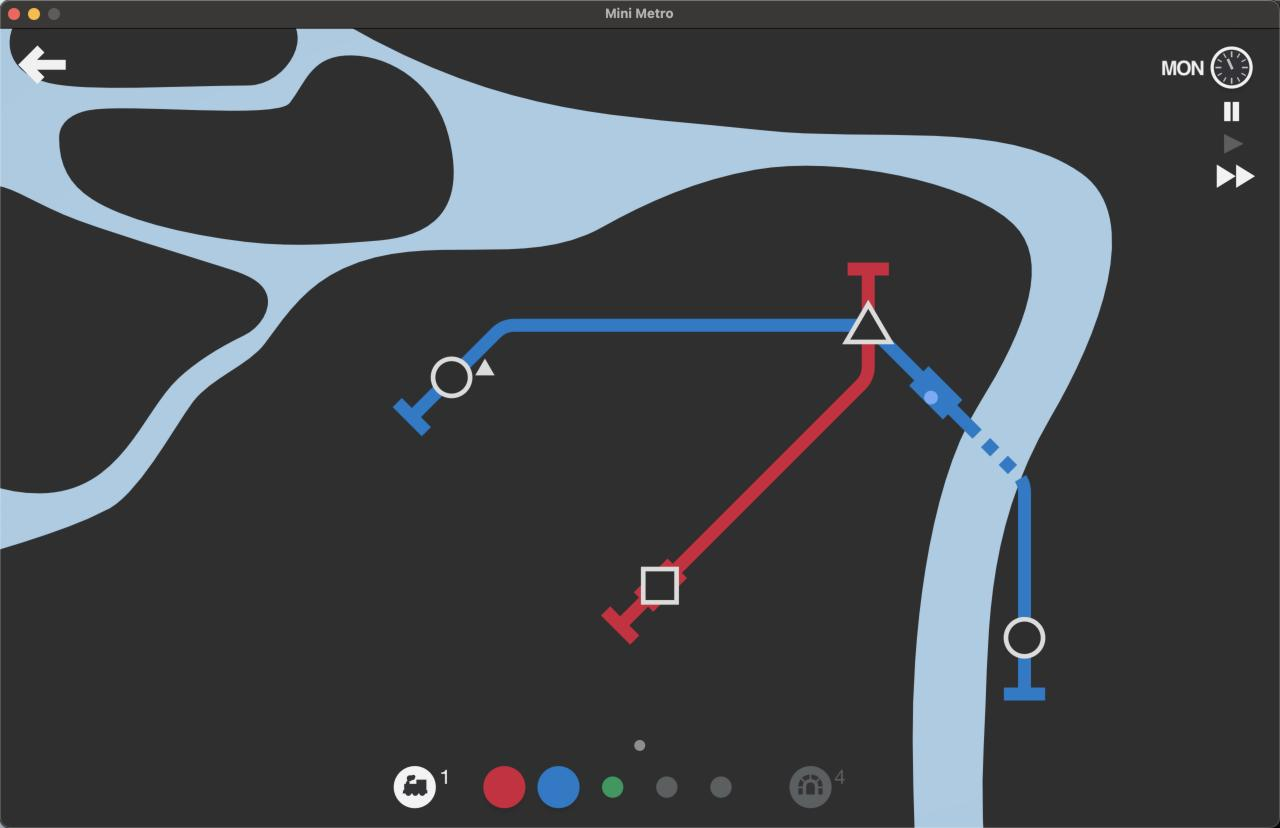CIRCLE: (1002, 614, 1047, 659), (429, 354, 474, 398)
SQUARE: (640, 565, 681, 605)
TRIANGLE: (842, 301, 893, 346)
